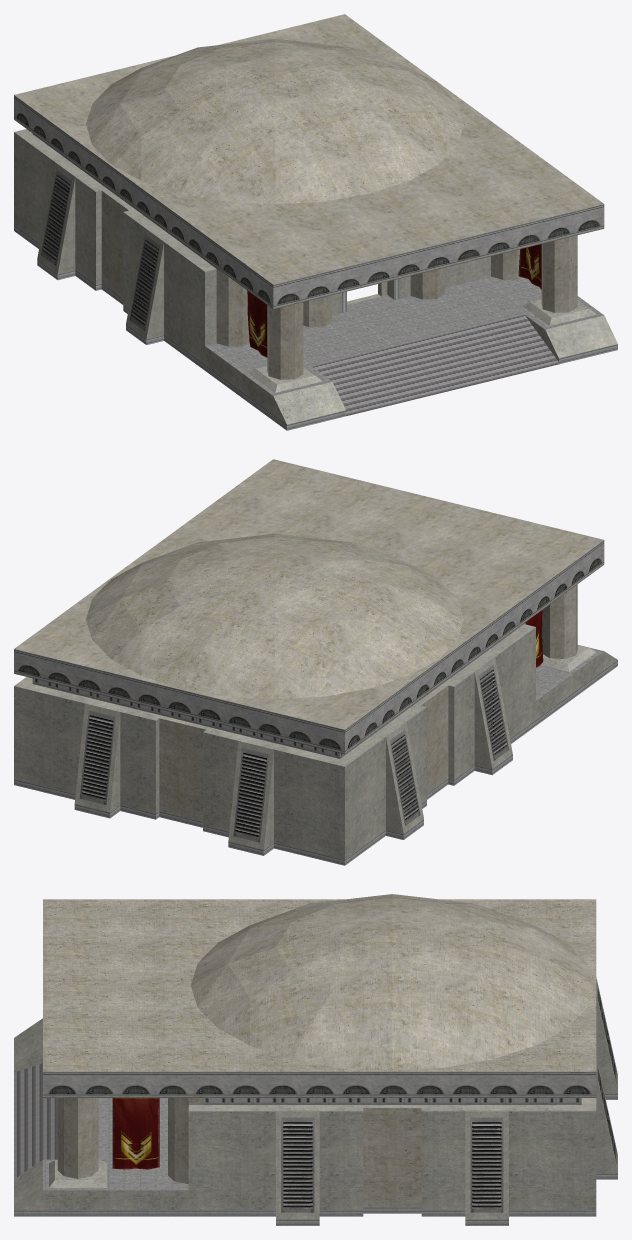
Rendered from mun_all_guild_university_s01_r0_exterior_mesh_exterior_l1.fbx.
3 renders of one model, top to bottom at view 1: azimuth 30°, elevation 25°; view 2: azimuth 150°, elevation 25°; view 3: azimuth 270°, elevation 25°, orthographic. The views are drawn at different scales.
Visible parts, largest first — view 1: mesh_node; view 2: mesh_node; view 3: mesh_node.
Boxes of the visible parts, x1,y1,x2,y2 form: mesh_node: (14, 14, 617, 430); mesh_node: (14, 459, 617, 865); mesh_node: (14, 894, 617, 1225).
Bounding box in the file's own units: 38.75 × 18.75 × 51.88.
